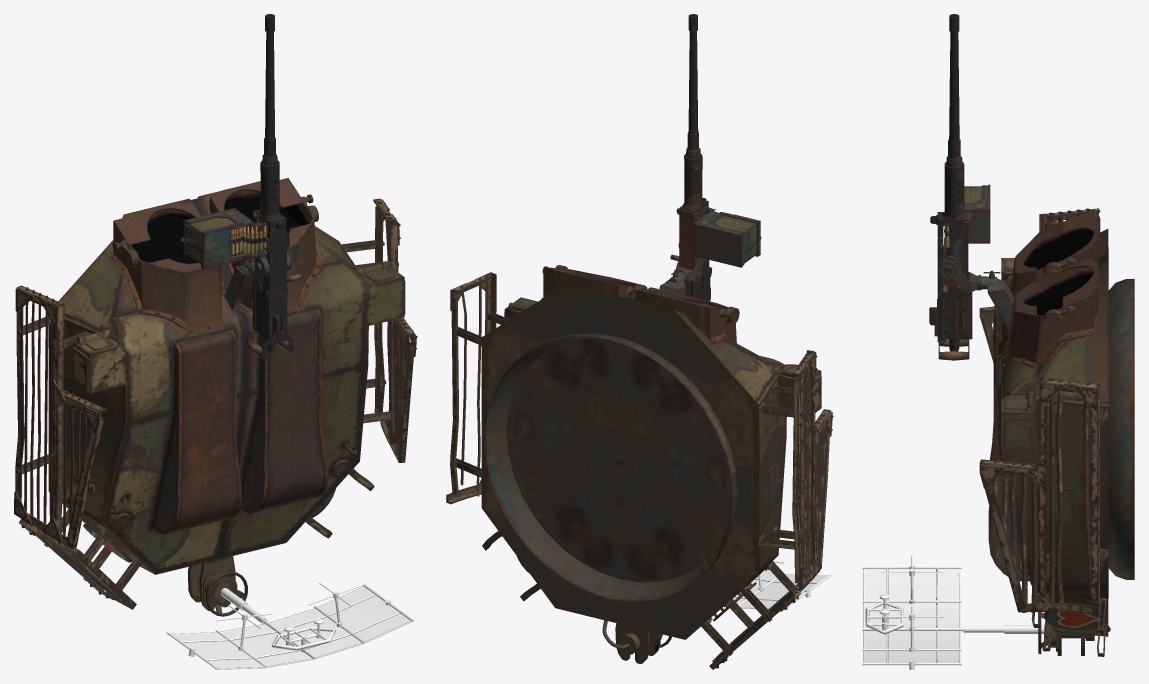
File: Turret_02.glb
3 renders of one model, left to right at view 1: azimuth 30°, elevation 25°; view 2: azimuth 150°, elevation 25°; view 3: azimuth 270°, elevation 25°, orthographic. The views are drawn at different scales.
Parts seen in each view (by area): view 1: set_0_group_0, set_0_group_1, set_0_group_2; view 2: set_0_group_0, set_0_group_1, set_0_group_2; view 3: set_0_group_0, set_0_group_2, set_0_group_1.
Boxes of the visible parts, <box> form: set_0_group_0: <box>14,178,417,616</box>; set_0_group_1: <box>181,14,303,358</box>; set_0_group_2: <box>166,583,413,669</box>; set_0_group_0: <box>446,265,833,669</box>; set_0_group_1: <box>670,14,761,301</box>; set_0_group_2: <box>733,561,831,609</box>; set_0_group_0: <box>979,208,1134,656</box>; set_0_group_2: <box>862,555,1044,669</box>; set_0_group_1: <box>929,14,990,360</box>.
Bounding box in the file's own units: 2.22 × 3.57 × 1.38.
Materials: 3 (2 with a texture image).
